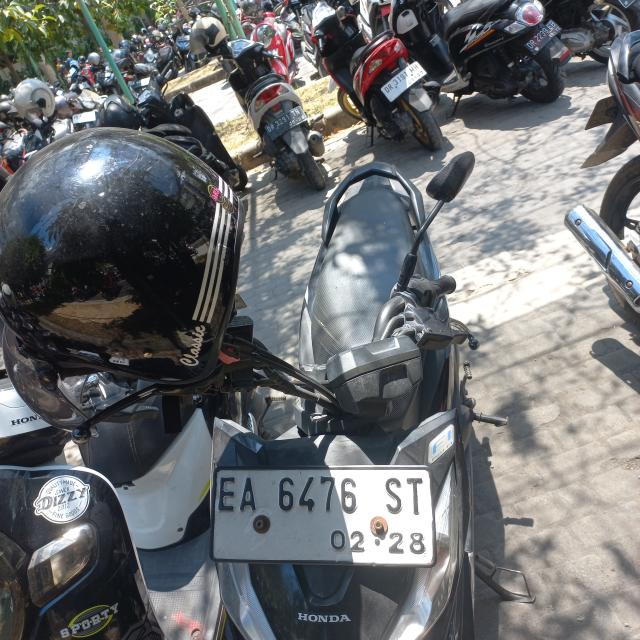plate: (210, 466, 435, 566), (380, 60, 427, 101), (263, 105, 308, 140), (522, 18, 563, 55)
